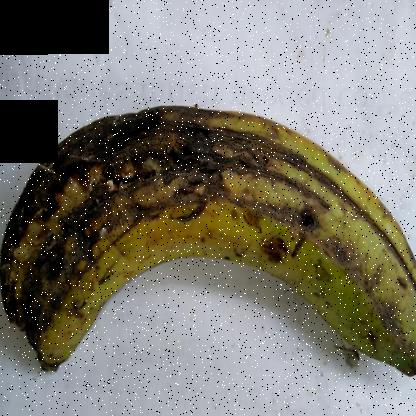rotten: (0, 69, 309, 360)
